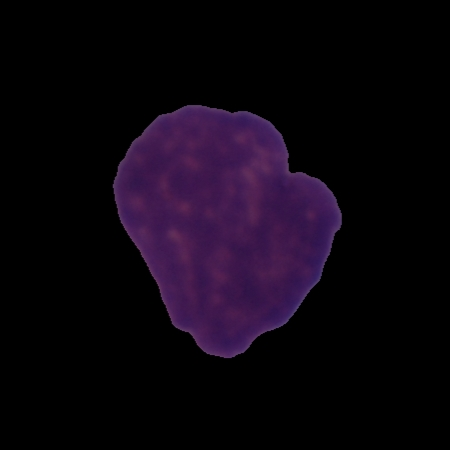ALL: (108, 100, 346, 360)
